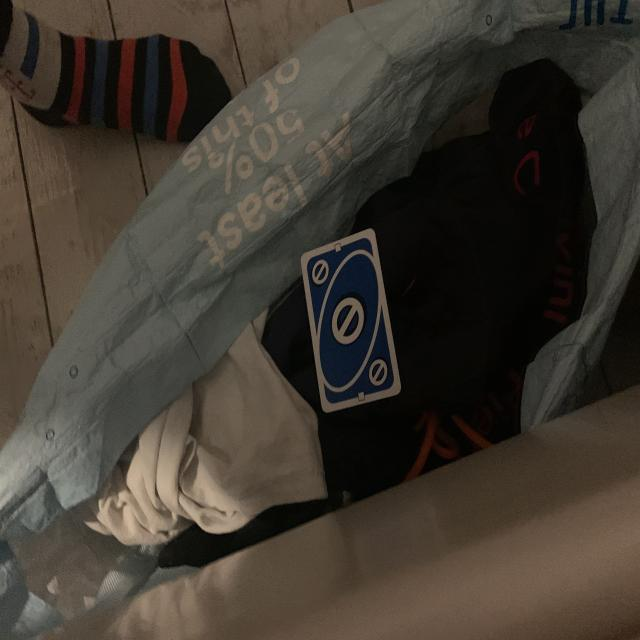lblueskip-20: (309, 256, 330, 290)
